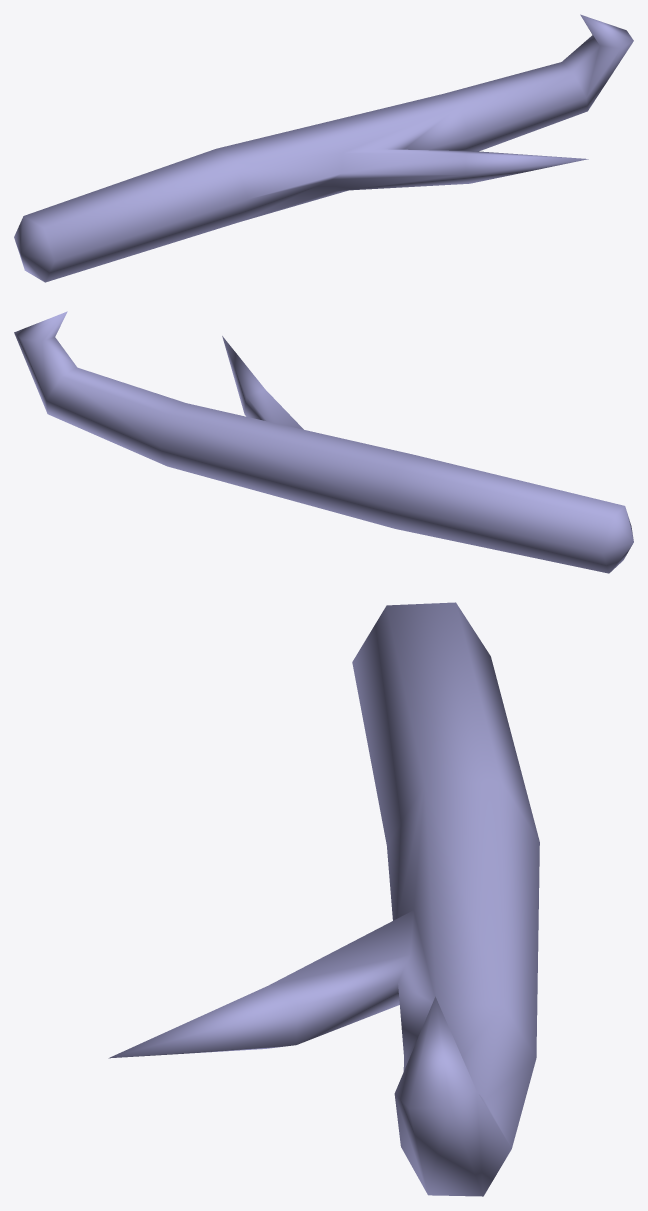
File: Ghostly_Branch.glb
3 renders of one model, top to bottom at view 1: azimuth 30°, elevation 25°; view 2: azimuth 150°, elevation 25°; view 3: azimuth 270°, elevation 25°, orthographic. The views are drawn at different scales.
Visible parts, largest first — view 1: Ghostly_Branch; view 2: Ghostly_Branch; view 3: Ghostly_Branch.
Part boxes in pixels (x1,y1,x2,y2): Ghostly_Branch: (14,14,633,282); Ghostly_Branch: (14,311,633,573); Ghostly_Branch: (108,602,539,1196).
Bounding box in the file's own units: 2.03 × 0.3966 × 0.6199.
